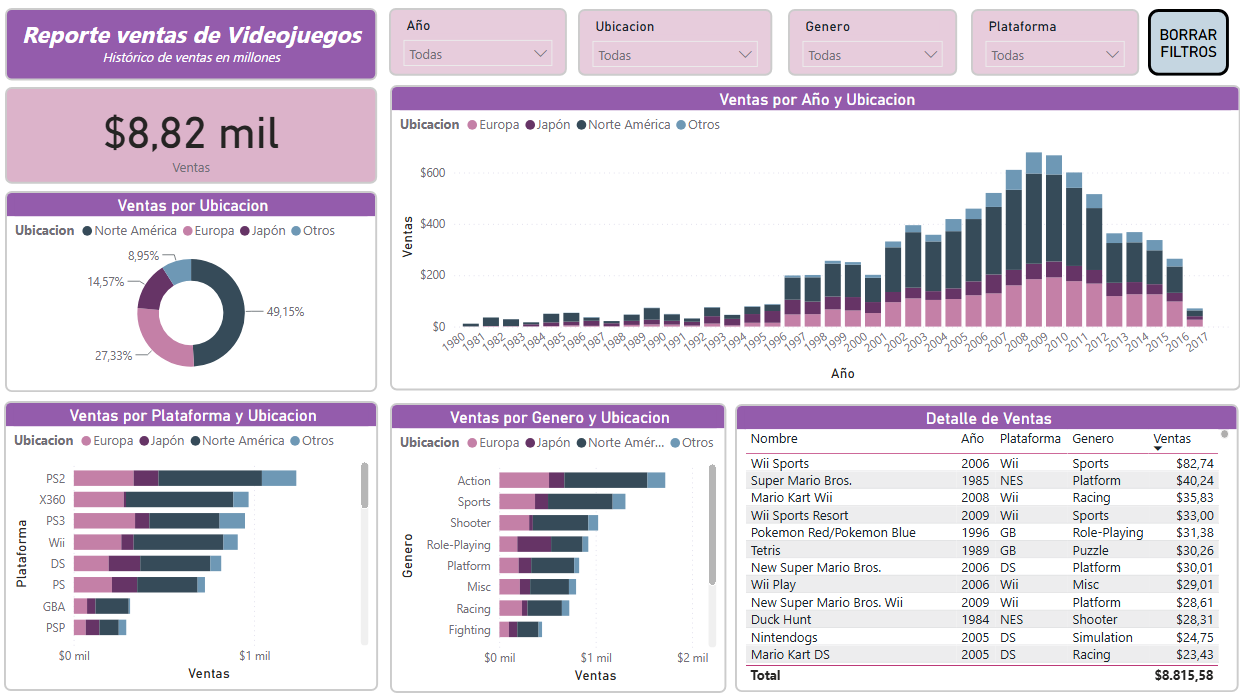

The page's visual inventory and layout, read from the dashboard file:
{"tool":"powerbi","page":{"name":"Página 1","canvas":[1280,720],"ordinal":0},"visuals":[{"type":"tableEx","title":"Detalle de Ventas","fields":{"Values":["Ventas.Nombre","Ventas.Año","Ventas.Plataforma","Ventas.Genero","Sum(Ventas.Ventas (en millones))"]},"box":[757.5,417.5,521.2,297.5],"z":1000},{"type":"columnChart","fields":{"Category":["Ventas.Año"],"Y":["Sum(Ventas.Ventas)"],"Series":["Ventas.Ubicacion"]},"box":[400,88.4,880,316.2],"z":2000},{"type":"donutChart","fields":{"Y":["Sum(Ventas.Ventas)"],"Category":["Ventas.Ubicacion"]},"box":[2.5,197.5,385,207.5],"z":3000},{"type":"barChart","fields":{"Category":["Ventas.Plataforma"],"Y":["Sum(Ventas.Ventas)"],"Series":["Ventas.Ubicacion"]},"box":[0.5,414.6,387.1,300],"z":4000},{"type":"barChart","fields":{"Y":["Sum(Ventas.Ventas)"],"Series":["Ventas.Ubicacion"],"Category":["Ventas.Genero"]},"box":[400,417.1,347.5,300],"z":5000},{"type":"card","fields":{"Values":["Sum(Ventas.Ventas)"]},"box":[2.5,90,385,100],"z":6000},{"type":"slicer","fields":{"Values":["Ventas.Año"]},"box":[399.5,8.8,184.4,70.2],"z":7000},{"type":"slicer","fields":{"Values":["Ventas.Ubicacion"]},"box":[628.5,8.9,200,70],"z":8000},{"type":"slicer","fields":{"Values":["Ventas.Genero"]},"box":[873,8.8,175.6,70.2],"z":9000},{"type":"slicer","fields":{"Values":["Ventas.Plataforma"]},"box":[1093.2,8.8,174.1,70.2],"z":10000},{"type":"textbox","box":[2.5,8.8,385,75],"z":11000}]}

Visuals, with their boxes in screenshot pixels (x1, y1, x2, y2), scaled from the page's 1280x720 canvas onto the 1242x694 screenshot:
"Detalle de Ventas" tableEx: region(735, 402, 1241, 689)
columnChart - Ventas.Año x Sum(Ventas.Ventas): region(388, 85, 1241, 390)
donutChart - Sum(Ventas.Ventas) x Ventas.Ubicacion: region(2, 190, 376, 390)
barChart - Ventas.Plataforma x Sum(Ventas.Ventas): region(0, 400, 376, 689)
barChart - Sum(Ventas.Ventas) x Ventas.Ubicacion: region(388, 402, 725, 691)
card - Sum(Ventas.Ventas): region(2, 87, 376, 183)
slicer - Ventas.Año: region(388, 8, 567, 76)
slicer - Ventas.Ubicacion: region(610, 9, 804, 76)
slicer - Ventas.Genero: region(847, 8, 1017, 76)
slicer - Ventas.Plataforma: region(1061, 8, 1230, 76)
textbox: region(2, 8, 376, 81)
